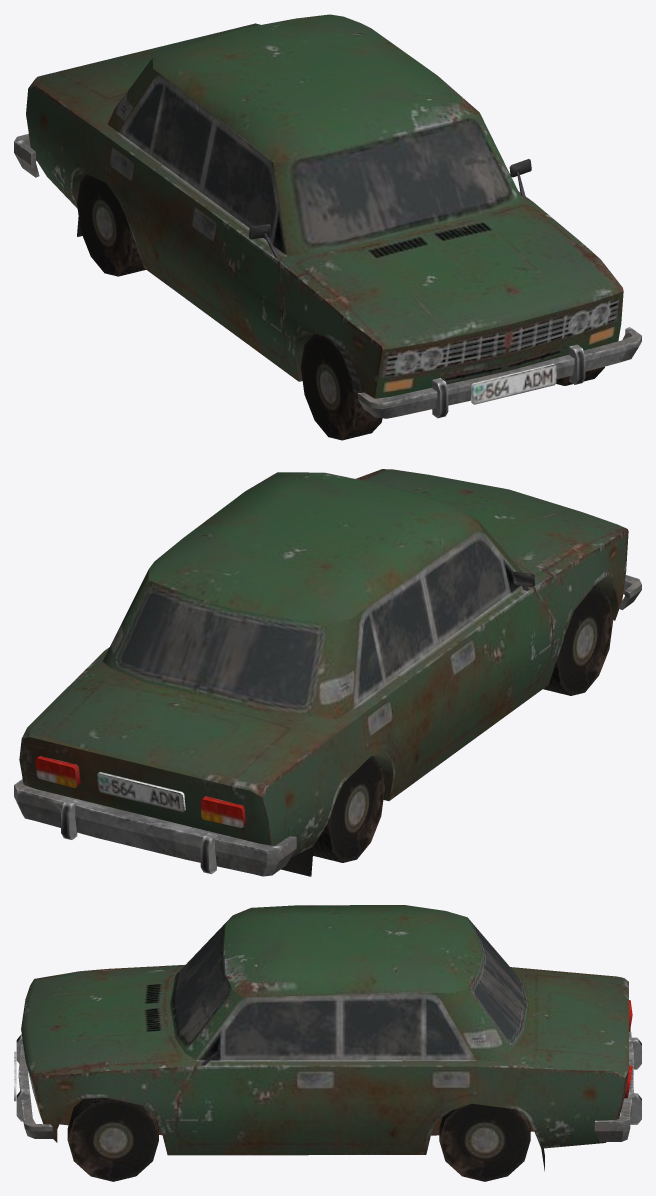
The model's file is car_zhiguli_1.glb.
3 renders of one model, top to bottom at view 1: azimuth 30°, elevation 25°; view 2: azimuth 150°, elevation 25°; view 3: azimuth 270°, elevation 25°, orthographic. The views are drawn at different scales.
Visible parts, largest first — view 1: car_zhiguli_1; view 2: car_zhiguli_1; view 3: car_zhiguli_1.
Part boxes in pixels (bbox=[...]): car_zhiguli_1: bbox=[14, 14, 641, 440]; car_zhiguli_1: bbox=[14, 469, 641, 876]; car_zhiguli_1: bbox=[14, 905, 641, 1181].
Bounding box in the file's own units: 1.8 × 1.43 × 4.18.
Materials: 1 (1 with a texture image).
